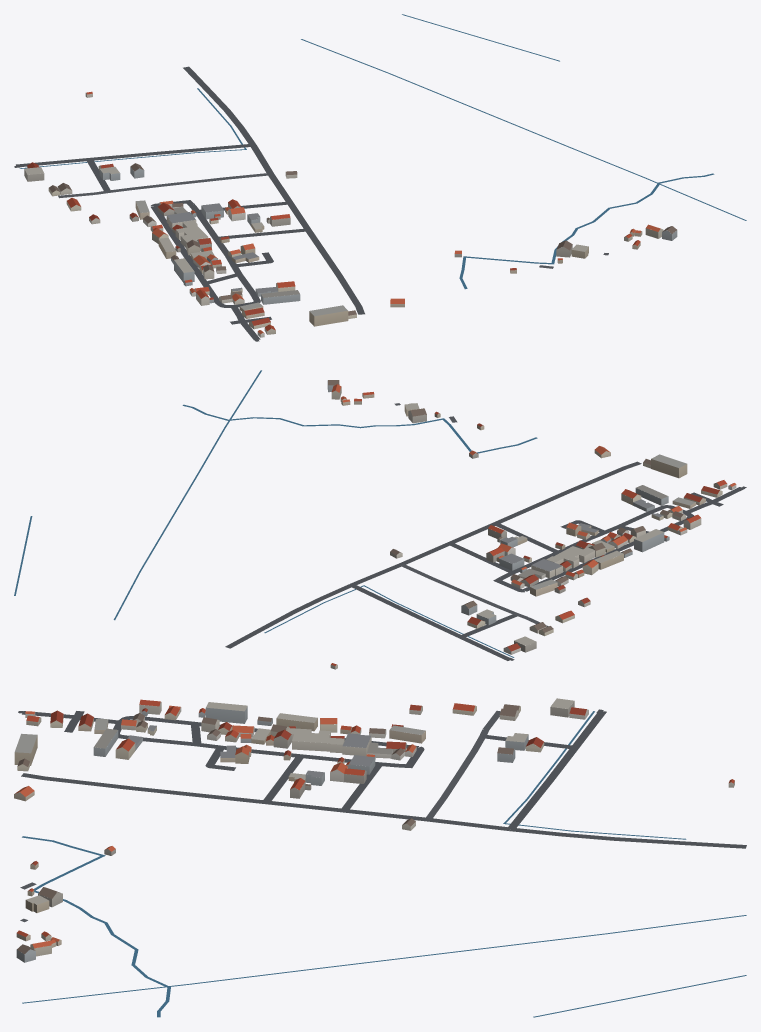
3 views of the same model, one above another, from view 1: azimuth 30°, elevation 25°; view 2: azimuth 150°, elevation 25°; view 3: azimuth 270°, elevation 25° (orthographic). The views are drawn at different scales.
Parts seen in each view (by area): view 1: roads, buildings_walls, buildings_roofs, water; view 2: buildings_walls, roads, buildings_roofs, water; view 3: buildings_walls, roads, buildings_roofs, water.
Part boxes in pixels (x1,y1,x2,y2): roads: [14, 66, 608, 341]; buildings_walls: [24, 93, 677, 337]; buildings_roofs: [24, 91, 676, 334]; water: [19, 14, 746, 289]; buildings_walls: [327, 380, 736, 669]; roads: [225, 403, 746, 660]; buildings_roofs: [328, 380, 736, 666]; water: [14, 370, 537, 657]; buildings_walls: [14, 701, 734, 962]; roads: [18, 709, 746, 922]; buildings_roofs: [15, 698, 734, 954]; water: [22, 711, 746, 1017].
Bounding box in the file's own units: 508 × 9.74 × 506.
